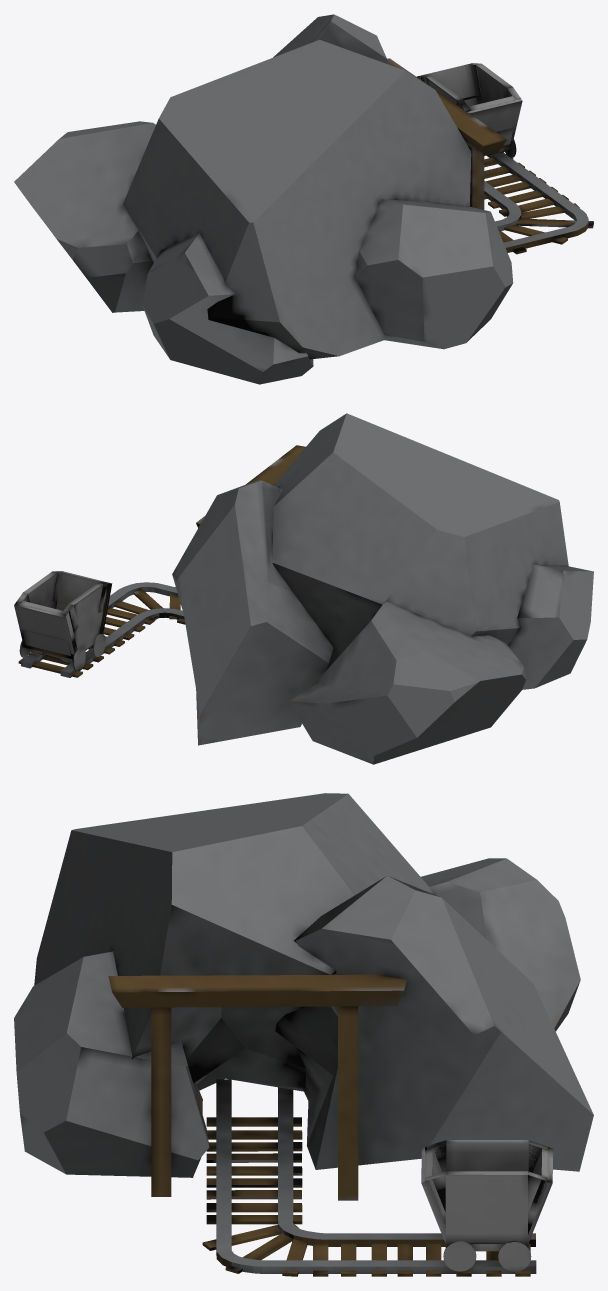
File: mine.glb
3 renders of one model, top to bottom at view 1: azimuth 30°, elevation 25°; view 2: azimuth 150°, elevation 25°; view 3: azimuth 270°, elevation 25°, orthographic. The views are drawn at different scales.
Parts seen in each view (by area): view 1: entrance; view 2: entrance; view 3: entrance.
Boxes of the visible parts, x1=… form: entrance: x1=14, y1=14, x2=593, y2=384; entrance: x1=14, y1=413, x2=593, y2=764; entrance: x1=14, y1=793, x2=593, y2=1276.
Bounding box in the file's own units: 17.62 × 8.61 × 14.09.
1 material, 1 textured.
